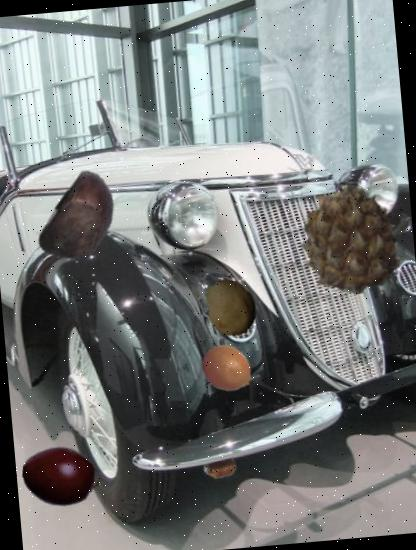Chestnut: (29, 168, 135, 274)
Papaya: (200, 276, 262, 338)
Pineapple: (292, 181, 410, 299)
Tamarillo: (19, 434, 104, 520)
Tangelo: (200, 341, 257, 399)
